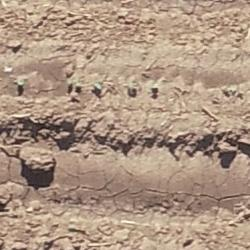cotton: (18, 78, 24, 87), (95, 83, 102, 90), (151, 84, 158, 89), (129, 82, 134, 88), (76, 79, 81, 85), (68, 80, 73, 84)
